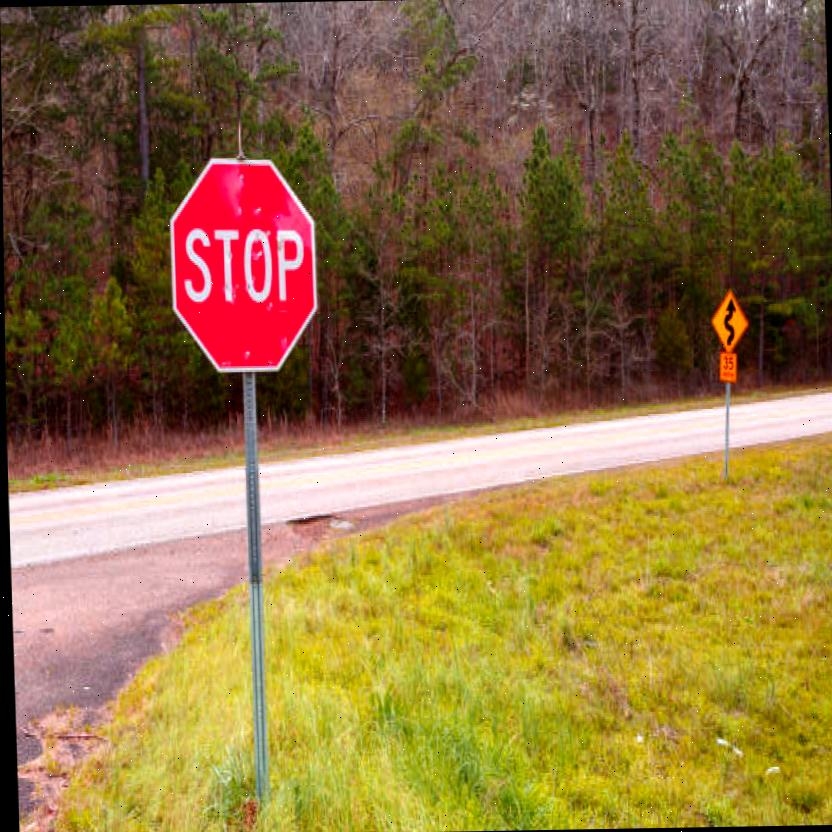Pole: (239, 374, 269, 800)
Sign: (165, 154, 319, 376)
